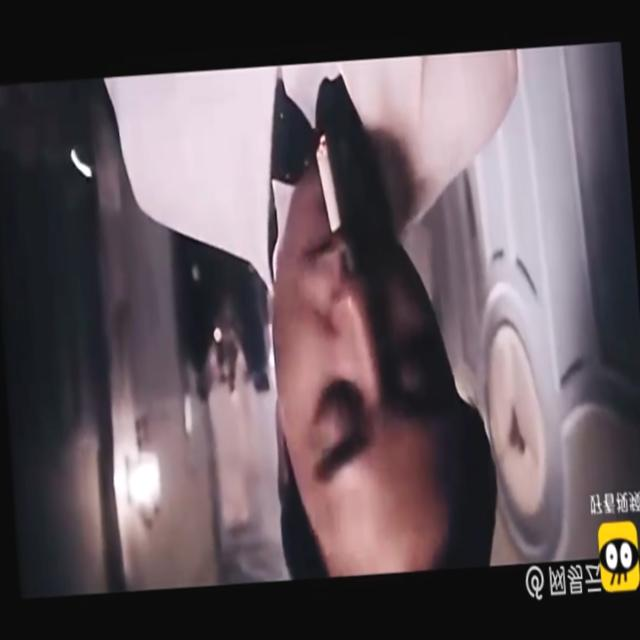smoke: (312, 123, 338, 216)
